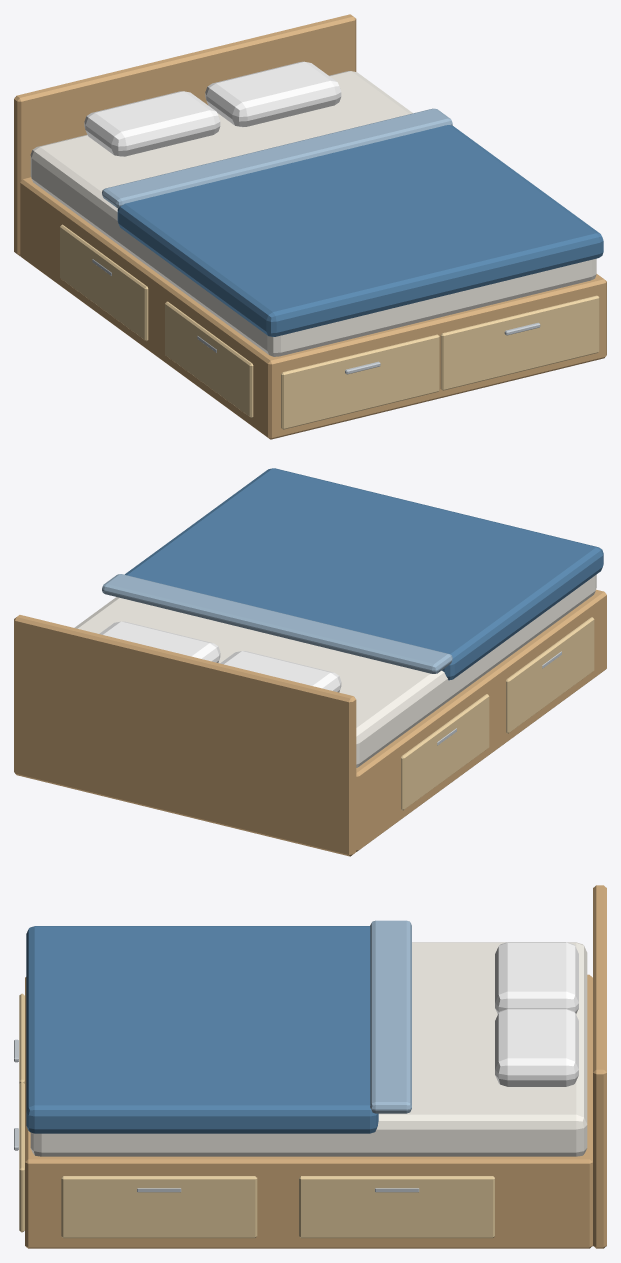
File: storage_bed.glb
3 renders of one model, top to bottom at view 1: azimuth 30°, elevation 25°; view 2: azimuth 150°, elevation 25°; view 3: azimuth 270°, elevation 25°, orthographic. The views are drawn at different scales.
Visible parts, largest first — view 1: storage_bed_Body; view 2: storage_bed_Body; view 3: storage_bed_Body.
Boxes of the visible parts, x1,y1,x2,y2 form: storage_bed_Body: [14, 14, 606, 439]; storage_bed_Body: [14, 468, 606, 856]; storage_bed_Body: [14, 885, 606, 1248].
Bounding box in the file's own units: 1.6 × 0.7 × 2.1.
